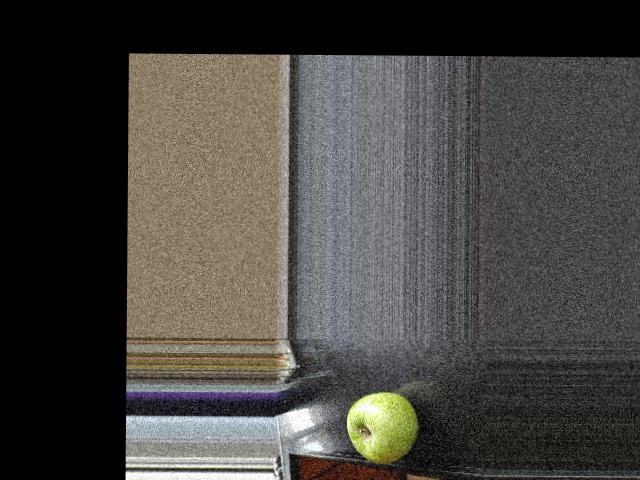apple: (342, 388, 423, 465)
